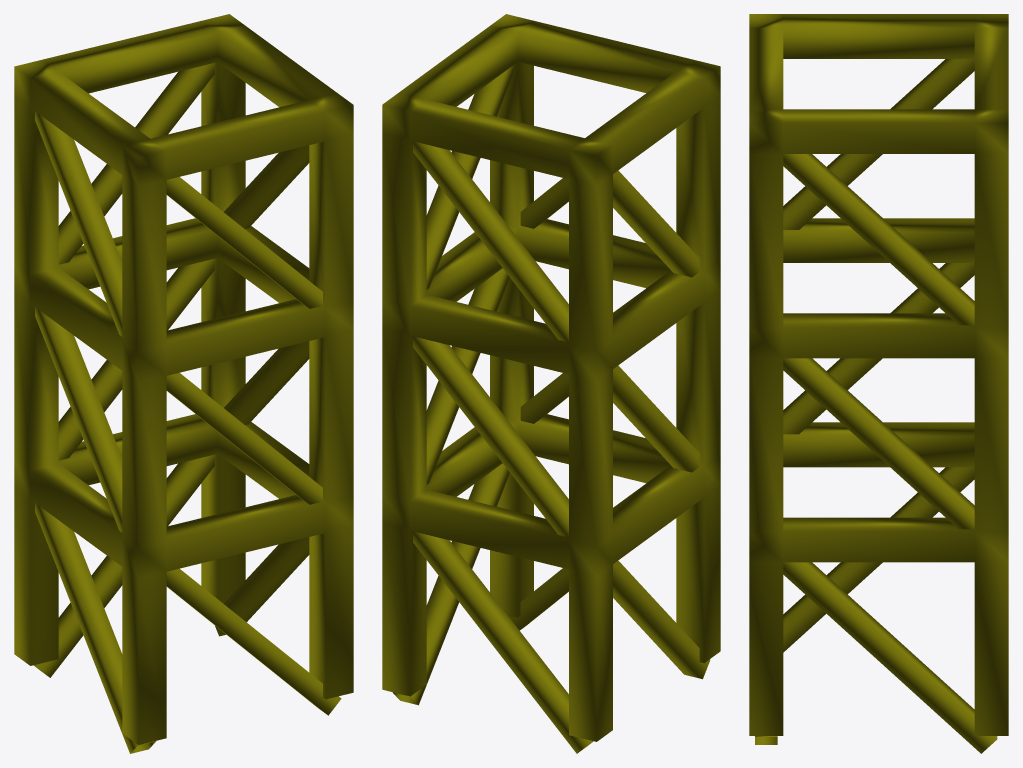
Rendered from Construction_Crane_1a.fbx.
The picture shows the model from 3 angles, left to right: view 1: azimuth 30°, elevation 25°; view 2: azimuth 150°, elevation 25°; view 3: azimuth 270°, elevation 25°; orthographic projection. The views are drawn at different scales.
Parts seen in each view (by area): view 1: constructCrane1; view 2: constructCrane1; view 3: constructCrane1.
Boxes of the visible parts, x1,y1,x2,y2 form: constructCrane1: (14, 14, 353, 753); constructCrane1: (382, 14, 720, 753); constructCrane1: (749, 14, 1008, 753).
Bounding box in the file's own units: 460 × 1240 × 460.
